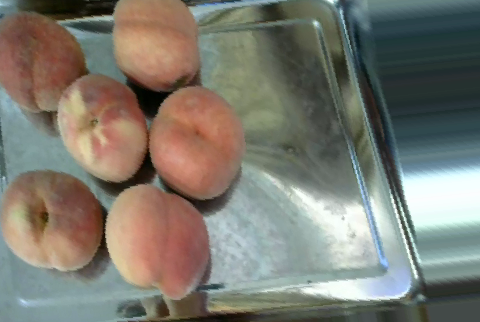Peach: (106, 186, 209, 296), (150, 83, 245, 199), (2, 169, 104, 270), (56, 71, 149, 181), (110, 0, 203, 91)
